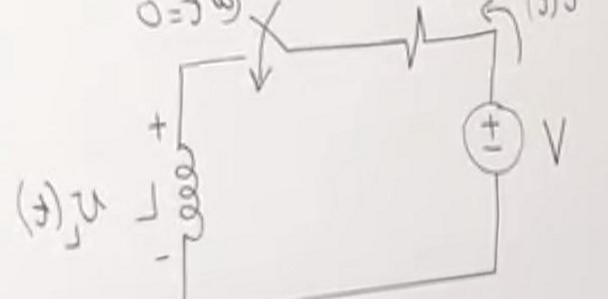Battery: (432, 89, 537, 187)
